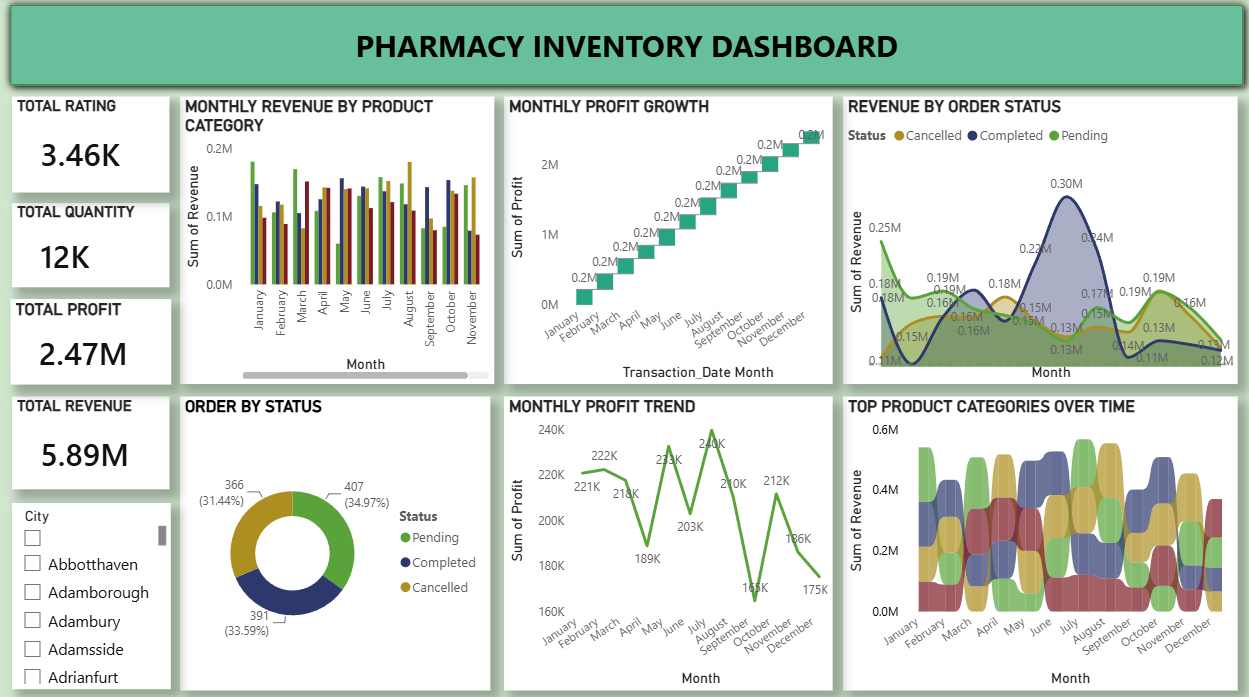

This screenshot's page, from the dashboard's own definition file:
{"tool":"powerbi","page":{"name":"Page 7","canvas":[1280,720],"ordinal":6},"visuals":[{"type":"shape","box":[4.1,0,1276,100],"z":0},{"type":"areaChart","title":"REVENUE BY ORDER STATUS","fields":{"Category":["14_Pharmacy_Inventory.Transaction_Date.Variation.Date Hierarchy.Month"],"Y":["Sum(14_Pharmacy_Inventory.Revenue)"],"Series":["14_Pharmacy_Inventory.Status"]},"box":[863.7,102.7,402.8,293.3],"z":1000},{"type":"waterfallChart","title":"MONTHLY PROFIT GROWTH","fields":{"Category":["14_Pharmacy_Inventory.Transaction_Date.Variation.Date Hierarchy.Month"],"Y":["Sum(14_Pharmacy_Inventory.Profit)"]},"box":[517.7,102.7,335.2,293.3],"z":2000},{"type":"ribbonChart","title":"TOP PRODUCT CATEGORIES OVER TIME","fields":{"Category":["14_Pharmacy_Inventory.Transaction_Date.Variation.Date Hierarchy.Month"],"Series":["14_Pharmacy_Inventory.Category"],"Y":["Sum(14_Pharmacy_Inventory.Revenue)"]},"box":[863.7,408.2,402.8,300.1],"z":3000},{"type":"clusteredColumnChart","title":"MONTHLY REVENUE BY PRODUCT CATEGORY","fields":{"Category":["14_Pharmacy_Inventory.Transaction_Date.Variation.Date Hierarchy.Month"],"Y":["Sum(14_Pharmacy_Inventory.Revenue)"],"Series":["14_Pharmacy_Inventory.Category"]},"box":[186.5,102.7,320.4,293.3],"z":4000},{"type":"donutChart","title":"ORDER BY STATUS","fields":{"Category":["14_Pharmacy_Inventory.Status"],"Y":["CountNonNull(14_Pharmacy_Inventory.Record_ID)"]},"box":[186.7,408.6,316.8,300],"z":5000},{"type":"lineChart","title":"MONTHLY PROFIT TREND","fields":{"Category":["14_Pharmacy_Inventory.Transaction_Date.Variation.Date Hierarchy.Month"],"Y":["Sum(14_Pharmacy_Inventory.Profit)"]},"box":[517.7,408.2,335.2,300.1],"z":6000},{"type":"cardVisual","title":"TOTAL QUANTITY","fields":{"Data":["Sum(14_Pharmacy_Inventory.Quantity)"]},"box":[15.3,211.2,160.7,85.7],"z":8000},{"type":"cardVisual","title":"TOTAL REVENUE","fields":{"Data":["Sum(14_Pharmacy_Inventory.Revenue)"]},"box":[15.3,408.6,160.7,94.9],"z":9000},{"type":"cardVisual","title":"TOTAL RATING","fields":{"Data":["Sum(14_Pharmacy_Inventory.Rating)"]},"box":[15.3,102.5,160.7,98],"z":10000},{"type":"slicer","fields":{"Values":["14_Pharmacy_Inventory.City"]},"box":[15.3,517.3,162.2,189.8],"z":11000},{"type":"cardVisual","title":"TOTAL PROFIT","fields":{"Data":["Sum(14_Pharmacy_Inventory.Profit)"]},"box":[13.8,309.2,163.8,87.2],"z":11001}]}

Visuals, with their boxes in screenshot pixels (x1, y1, x2, y2), scaled from the page's 1280x720 canvas onto the 1249x697 screenshot:
shape: x1=4, y1=0, x2=1248, y2=97
"REVENUE BY ORDER STATUS" areaChart: x1=843, y1=99, x2=1236, y2=383
"MONTHLY PROFIT GROWTH" waterfallChart: x1=505, y1=99, x2=832, y2=383
"TOP PRODUCT CATEGORIES OVER TIME" ribbonChart: x1=843, y1=395, x2=1236, y2=686
"MONTHLY REVENUE BY PRODUCT CATEGORY" clusteredColumnChart: x1=182, y1=99, x2=495, y2=383
"ORDER BY STATUS" donutChart: x1=182, y1=396, x2=491, y2=686
"MONTHLY PROFIT TREND" lineChart: x1=505, y1=395, x2=832, y2=686
"TOTAL QUANTITY" cardVisual: x1=15, y1=204, x2=172, y2=287
"TOTAL REVENUE" cardVisual: x1=15, y1=396, x2=172, y2=487
"TOTAL RATING" cardVisual: x1=15, y1=99, x2=172, y2=194
slicer - 14_Pharmacy_Inventory.City: x1=15, y1=501, x2=173, y2=685
"TOTAL PROFIT" cardVisual: x1=13, y1=299, x2=173, y2=384
